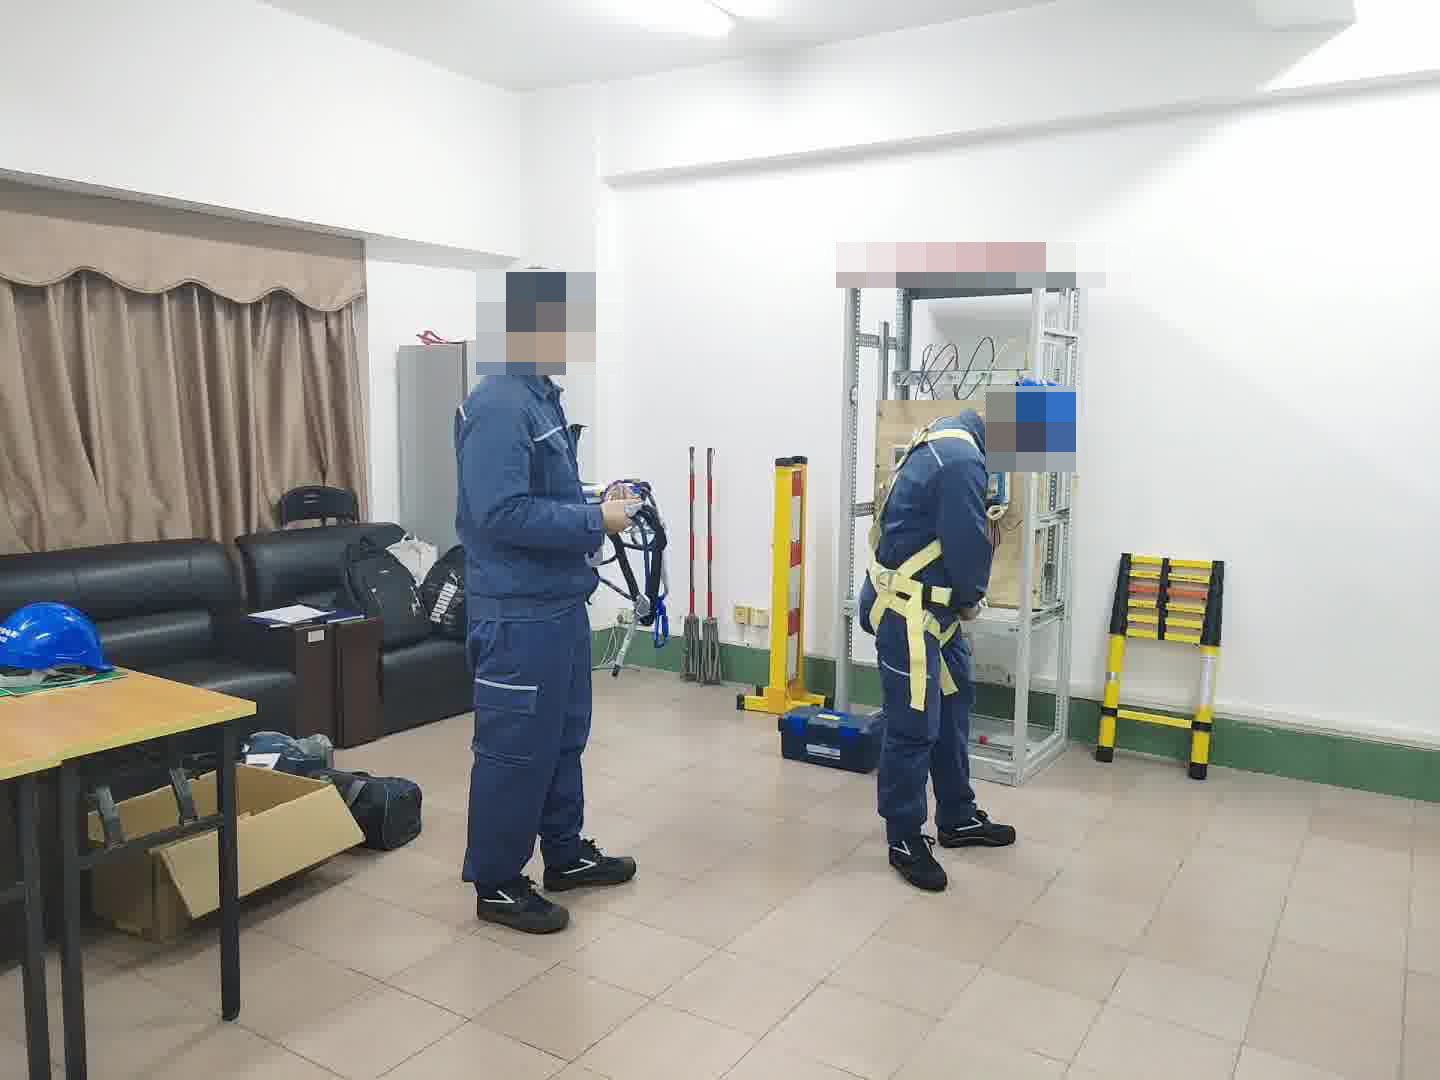downsuit: (464, 626, 596, 880), (875, 624, 979, 831)
halt: (986, 375, 1079, 472)
hand: (605, 496, 640, 532)
inear: (989, 419, 1040, 450)
noear: (515, 303, 566, 370)
person: (455, 264, 621, 928), (862, 371, 1078, 880)
safebelt: (864, 413, 996, 710)
unhalt: (493, 266, 589, 373)
upsuit: (458, 364, 593, 604), (878, 418, 994, 605)
